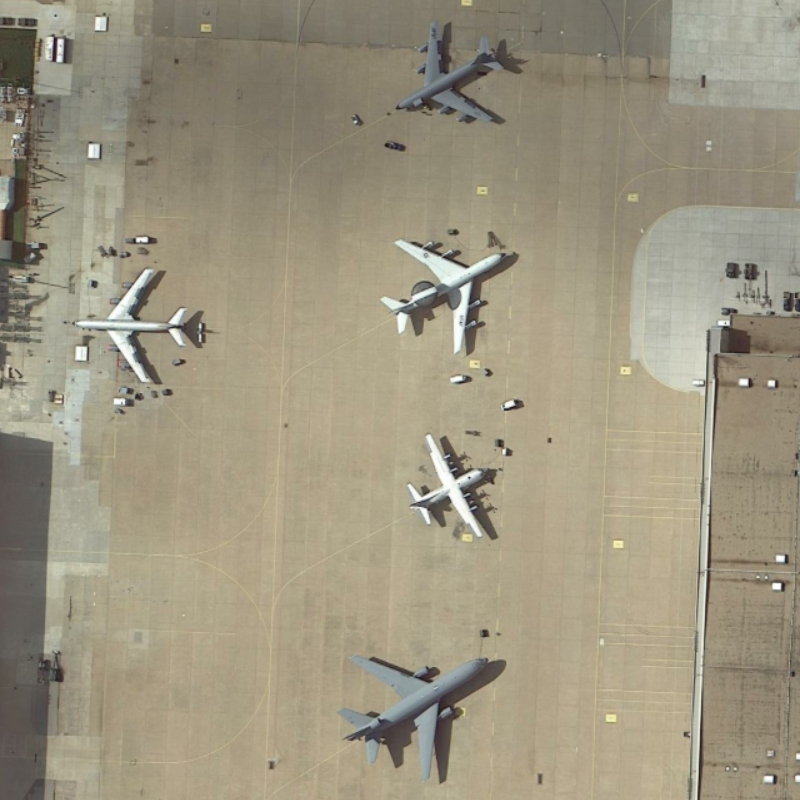A11: (65, 263, 199, 389)
A14: (395, 16, 520, 131)
A18: (338, 639, 498, 784)
A2: (404, 428, 503, 544)
A7: (382, 226, 512, 359)
